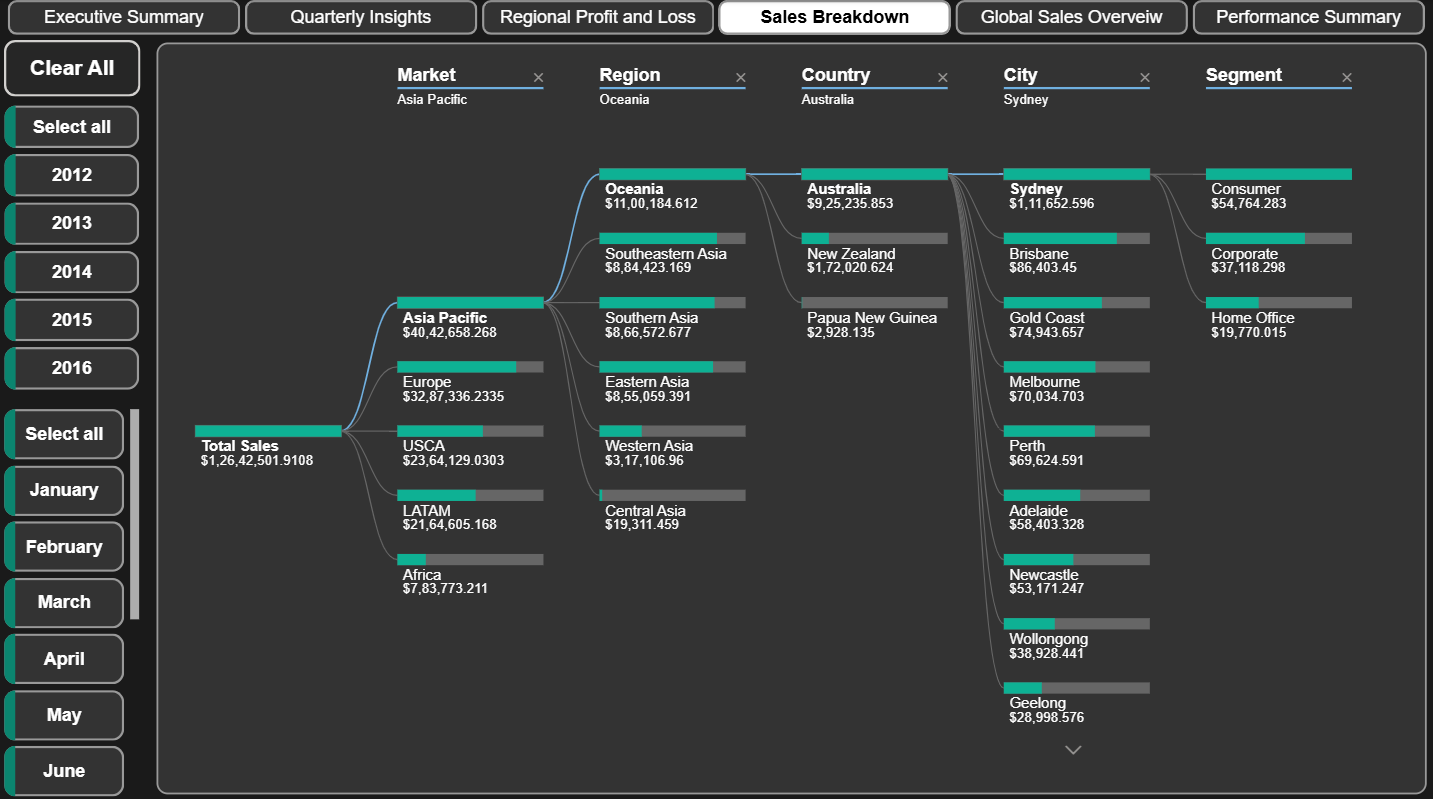

What the dashboard file says about the page in this screenshot:
{"tool":"powerbi","page":{"name":"Sales Breakdown","canvas":[1280,720],"ordinal":3},"visuals":[{"type":"pageNavigator","box":[8.1,0,1263.8,31.9],"z":0},{"type":"actionButton","box":[4.9,35.6,121.5,50.3],"z":1000},{"type":"advancedSlicerVisual","fields":{"Values":["Dim_Date.Year"]},"box":[0,89.6,130.1,263.8],"z":1500},{"type":"advancedSlicerVisual","fields":{"Values":["Dim_Date.Date.Variation.Date Hierarchy.Month"]},"box":[0,359.5,130.1,357.1],"z":1750},{"type":"decompositionTreeVisual","fields":{"ExplainBy":["Dim_Customers.Market","Dim_Customers.Region","Dim_Customers.Country","Dim_Customers.City","Dim_Customers.Segment"],"Analyze":["_Measures.Total Sales"]},"box":[139.9,38,1131.3,669.9],"z":2000}]}

Visuals, with their boxes in screenshot pixels (x1, y1, x2, y2), scaled from the page's 1280x720 canvas onto the 1433x799 screenshot:
pageNavigator: BBox(9, 0, 1424, 35)
actionButton: BBox(5, 40, 142, 95)
advancedSlicerVisual - Dim_Date.Year: BBox(0, 99, 146, 392)
advancedSlicerVisual - Dim_Date.Date.Variation.Date Hierarchy.Month: BBox(0, 399, 146, 795)
decompositionTreeVisual - Dim_Customers.Market x Dim_Customers.Region: BBox(157, 42, 1423, 786)
